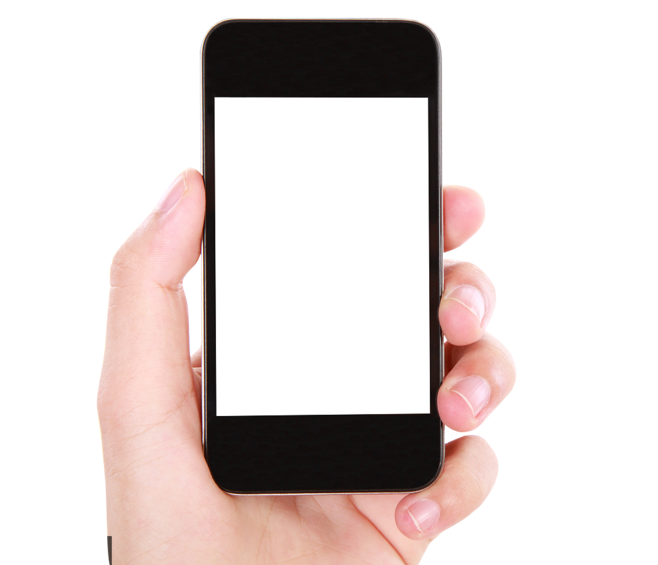phone: (92, 14, 519, 557)
